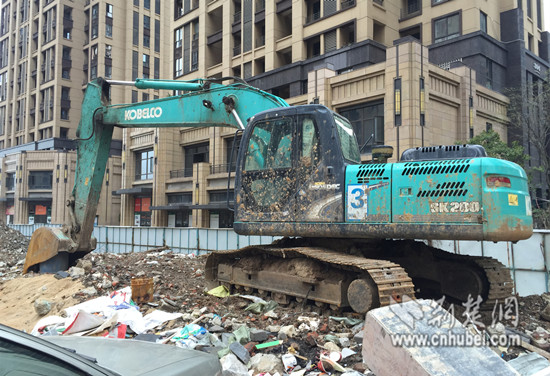excavator: (23, 76, 546, 313)
